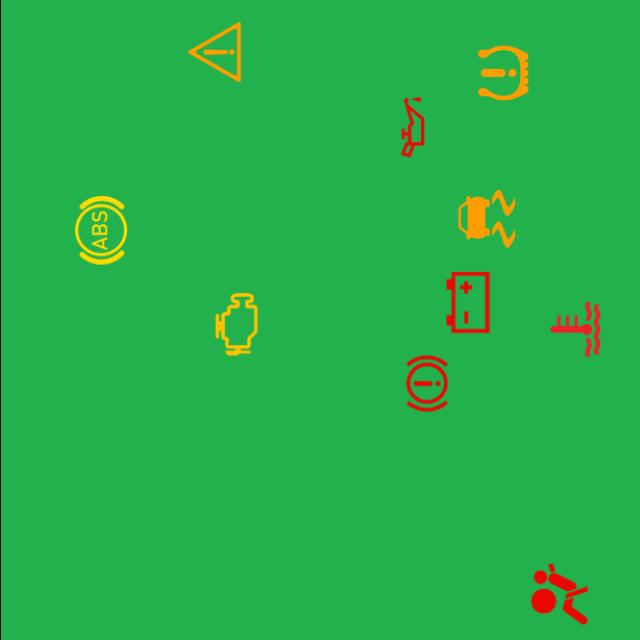Anti Lock Braking System: (62, 193, 138, 268)
Braking System Issue: (389, 346, 464, 421)
Charging System Issue: (430, 265, 504, 340)
Check Engine: (198, 286, 273, 362)
Electronic Stability Problem -ESP-: (448, 182, 523, 256)
Engine Overheating Warning Light: (537, 292, 612, 367)
Low Engine Oil Warning Light: (374, 90, 449, 164)
Low Tire Pressure Warning Light: (465, 36, 540, 110)
Master warning light: (176, 15, 251, 90)
SRS-Airbag: (521, 556, 596, 632)
